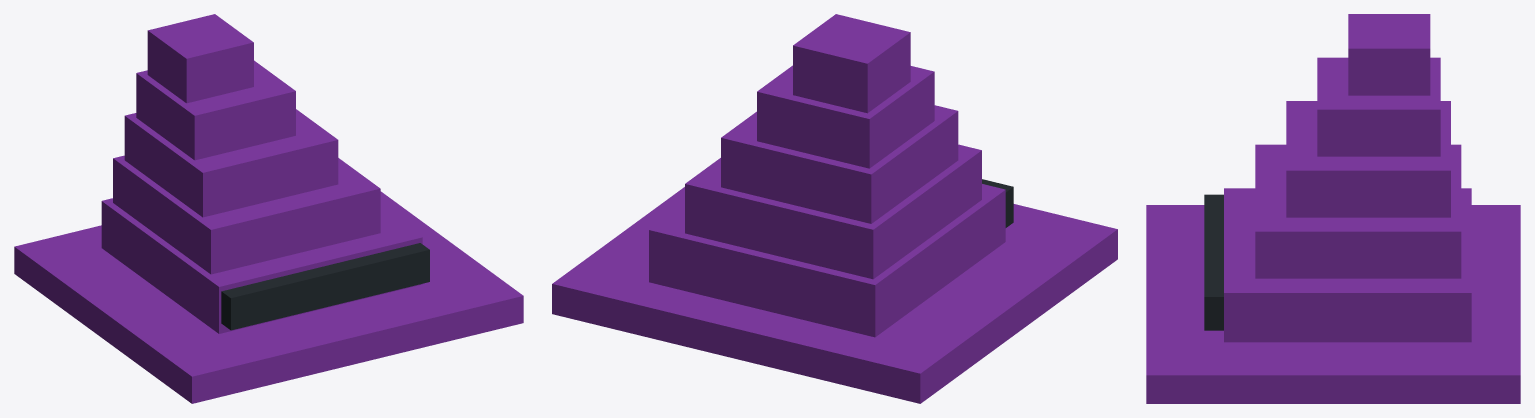
Rendered from indigo_wizard_hat.glb.
3 renders of one model, left to right at view 1: azimuth 30°, elevation 25°; view 2: azimuth 150°, elevation 25°; view 3: azimuth 270°, elevation 25°, orthographic. The views are drawn at different scales.
Parts seen in each view (by area): view 1: indigo_wizard_hat; view 2: indigo_wizard_hat; view 3: indigo_wizard_hat.
Boxes of the visible parts, x1=… form: indigo_wizard_hat: x1=14, y1=14, x2=523, y2=403; indigo_wizard_hat: x1=552, y1=14, x2=1117, y2=403; indigo_wizard_hat: x1=1146, y1=14, x2=1520, y2=403.
Size of the model in its own units: 0.7 by 0.51 by 0.65.
